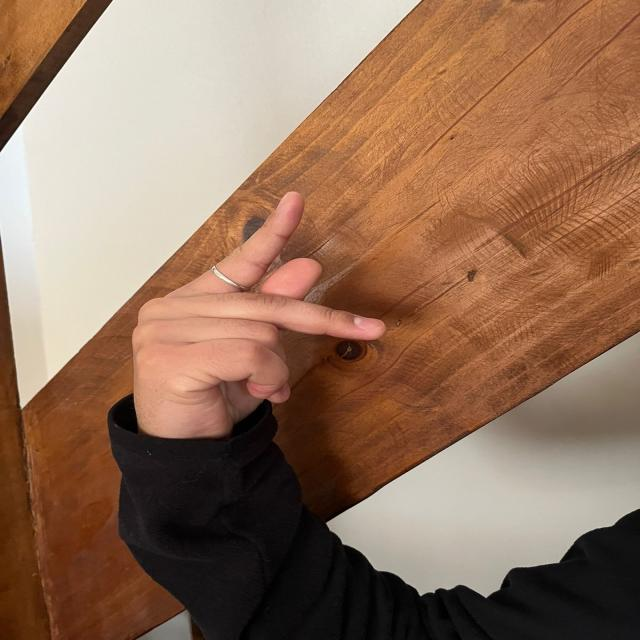K: (123, 184, 392, 433)
